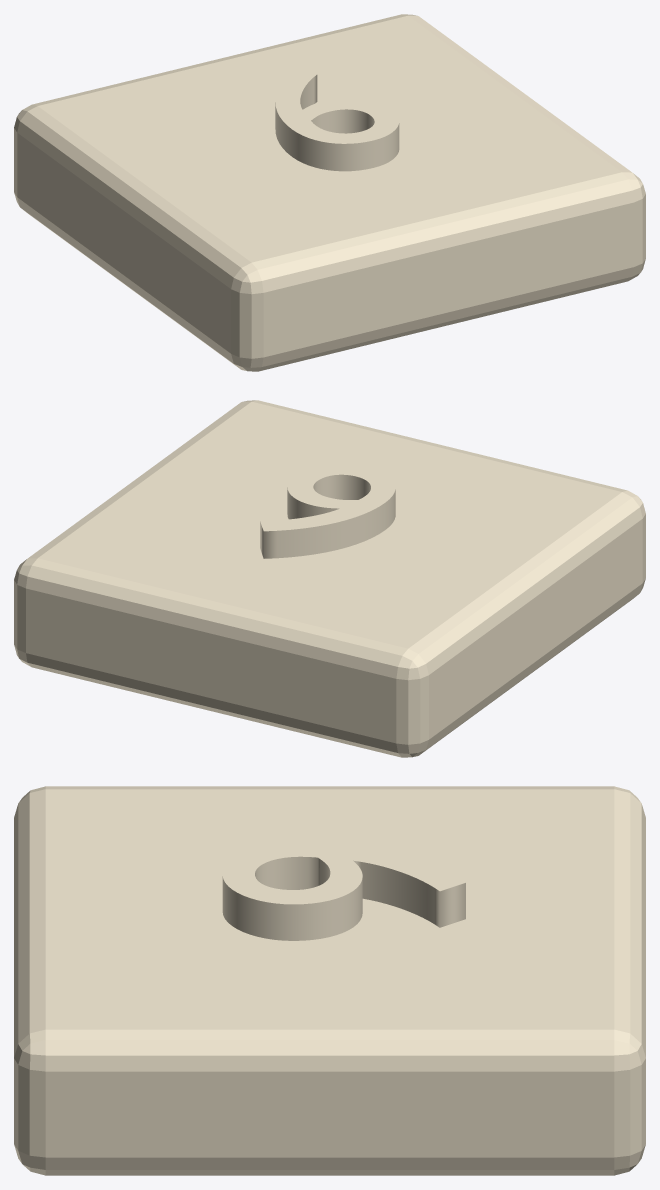
Rendered from Tile_6.fbx.
The picture shows the model from 3 angles, top to bottom: view 1: azimuth 30°, elevation 25°; view 2: azimuth 150°, elevation 25°; view 3: azimuth 270°, elevation 25°; orthographic projection. The views are drawn at different scales.
Parts seen in each view (by area): view 1: Tile_6; view 2: Tile_6; view 3: Tile_6.
Boxes of the visible parts, bbox=[...] form: Tile_6: bbox=[14, 14, 645, 371]; Tile_6: bbox=[14, 400, 645, 757]; Tile_6: bbox=[14, 786, 645, 1175].
Bounding box in the file's own units: 80 × 25.1 × 80.
